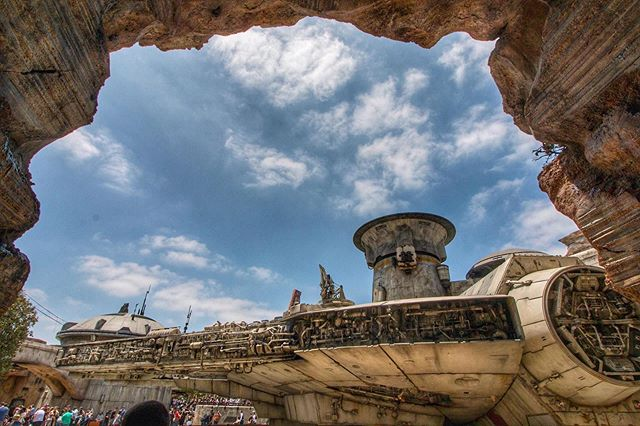building: (84, 257, 604, 426)
sky: (45, 14, 564, 328)
